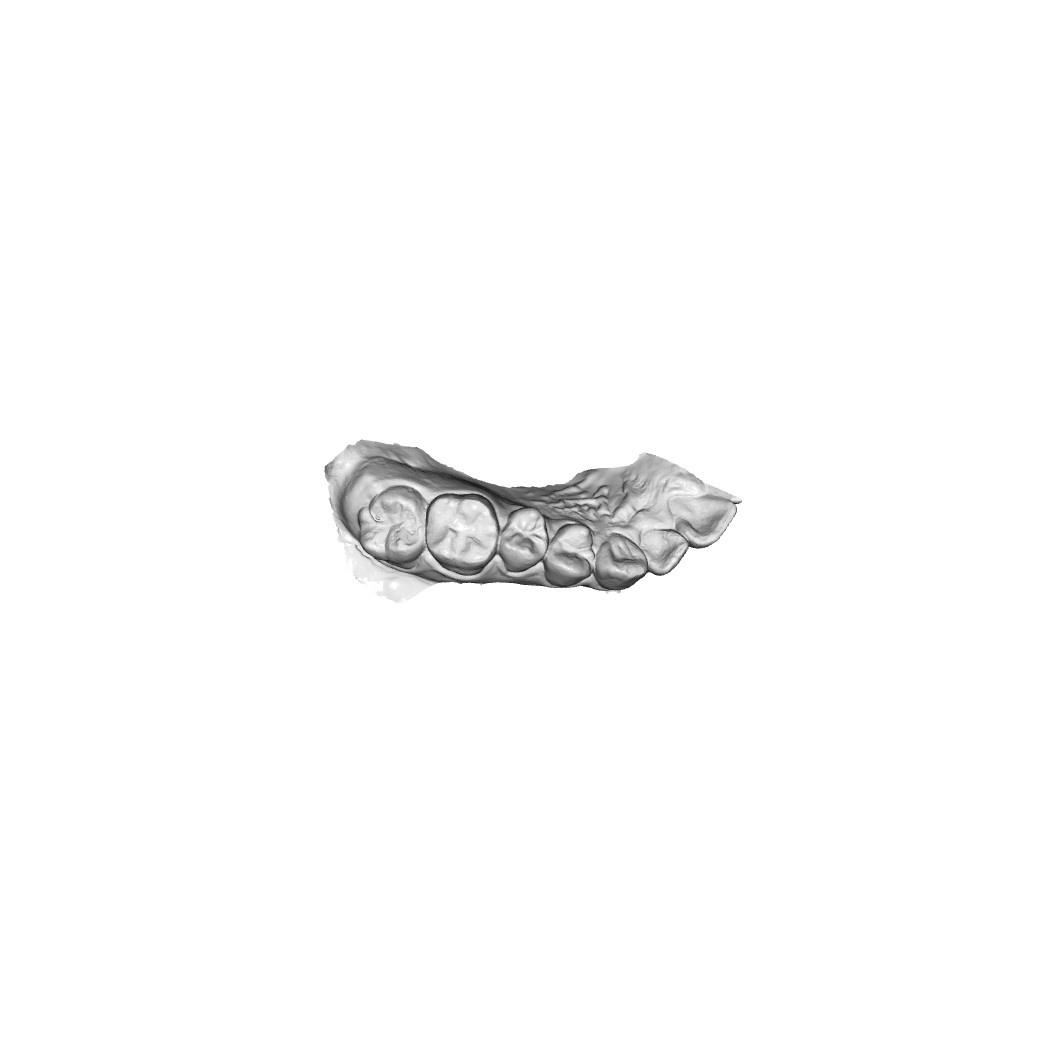canine: (595, 533, 647, 596)
incisor: (673, 493, 733, 546), (643, 528, 687, 576)
molar: (356, 482, 433, 577), (429, 493, 496, 574)
premolar: (541, 516, 597, 587), (499, 502, 547, 572)
